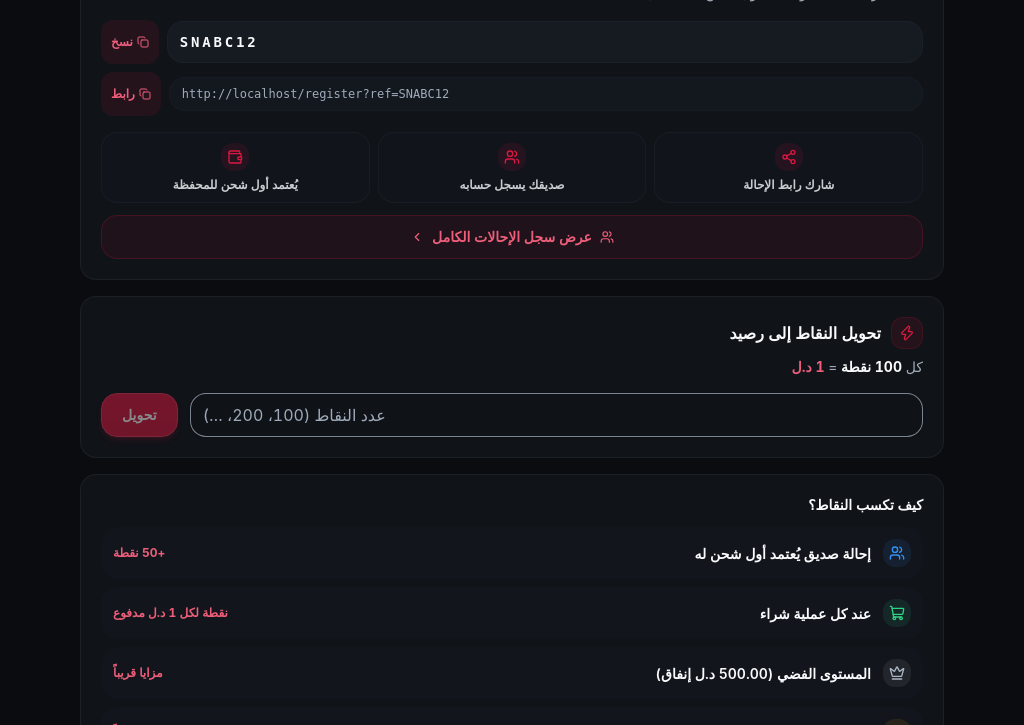
loyalty ↔ referrals — ONE shared cache identity for /api/loyalty (R120-B5, A5-F4/F5) › a points conversion on /loyalty refreshes the referrals observer's balance (no ≤60s staleness)
The width and height of the screenshot is (1024, 725).
(page scrolled)
In the field with placeholder "عدد النقاط (100، 200، …)": (556, 415) [190,393,923,437], type "300"
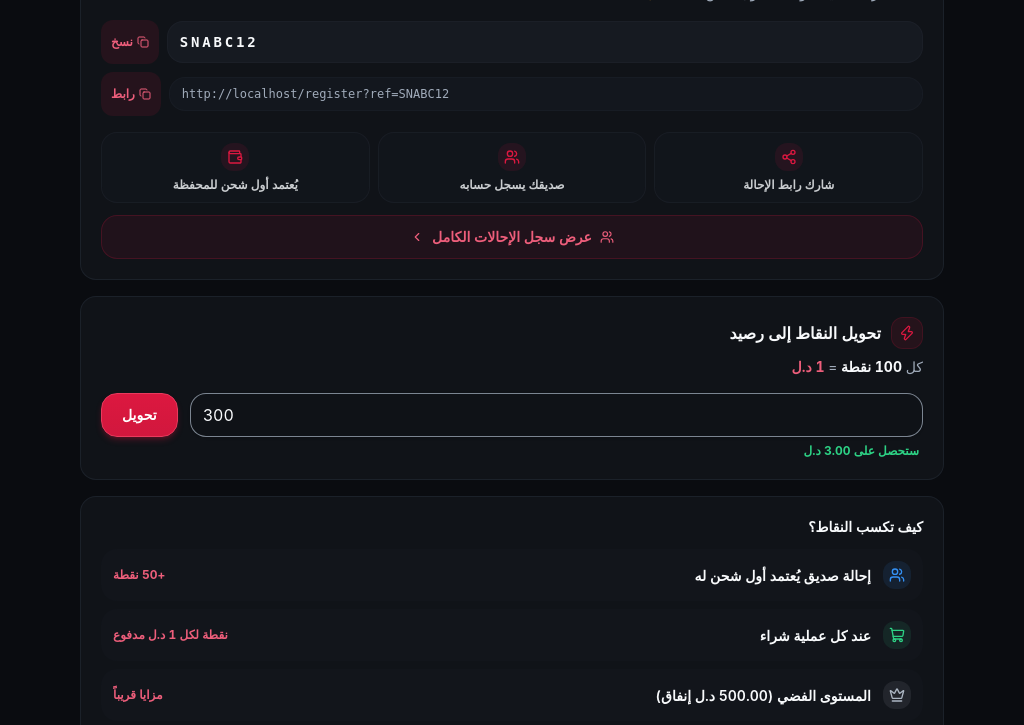
Click the button "تحويل": (139, 415) [101,393,178,437]
(page scrolled)
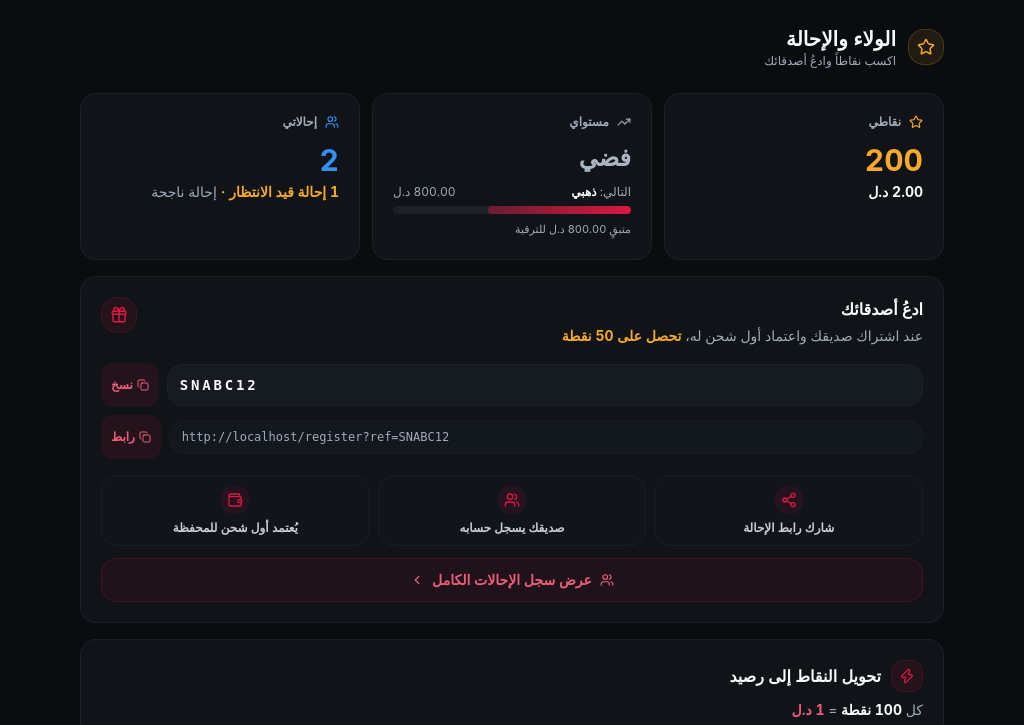
Expected: the text "200" is shown, [865,142,923,178]
